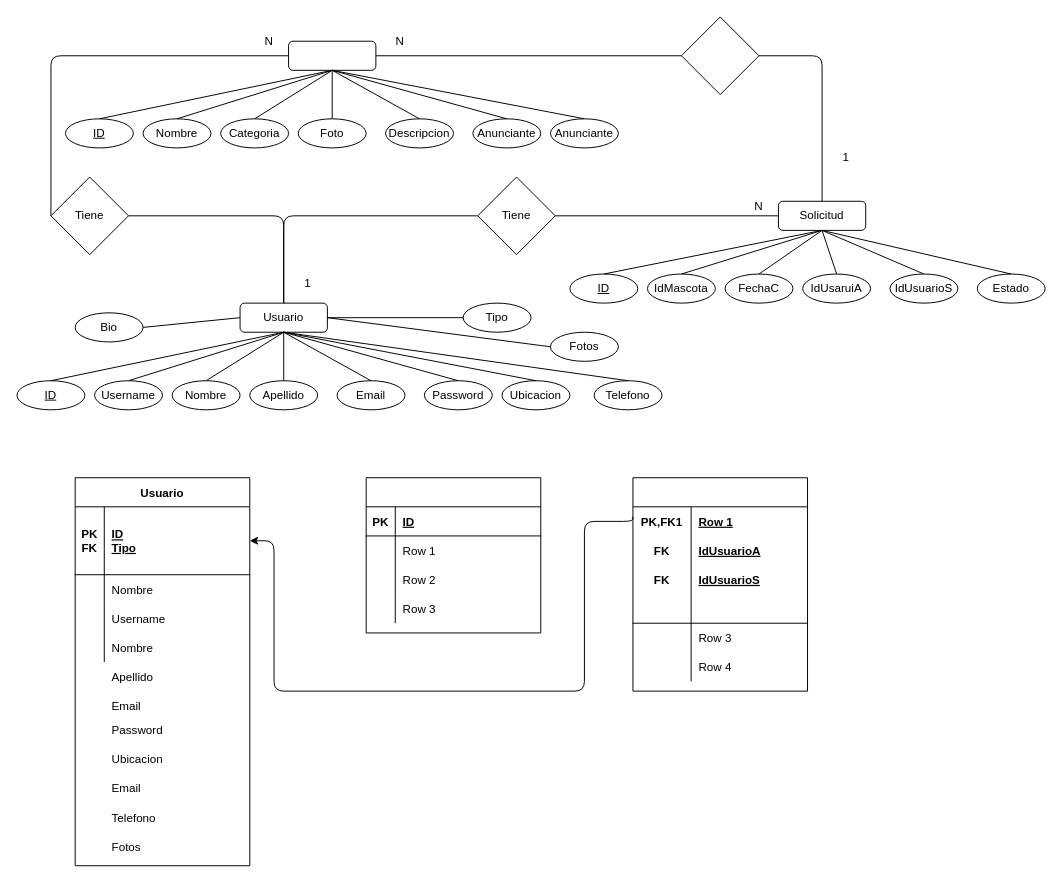
Image size: 1062x883. Some labels were removed from this diagram. Each missing label, with the box of its shape:
Mascota: (365, 477, 541, 633)
Mascotas: (288, 40, 376, 70)
Pertenece: (680, 16, 759, 95)
Table: (632, 477, 808, 691)
